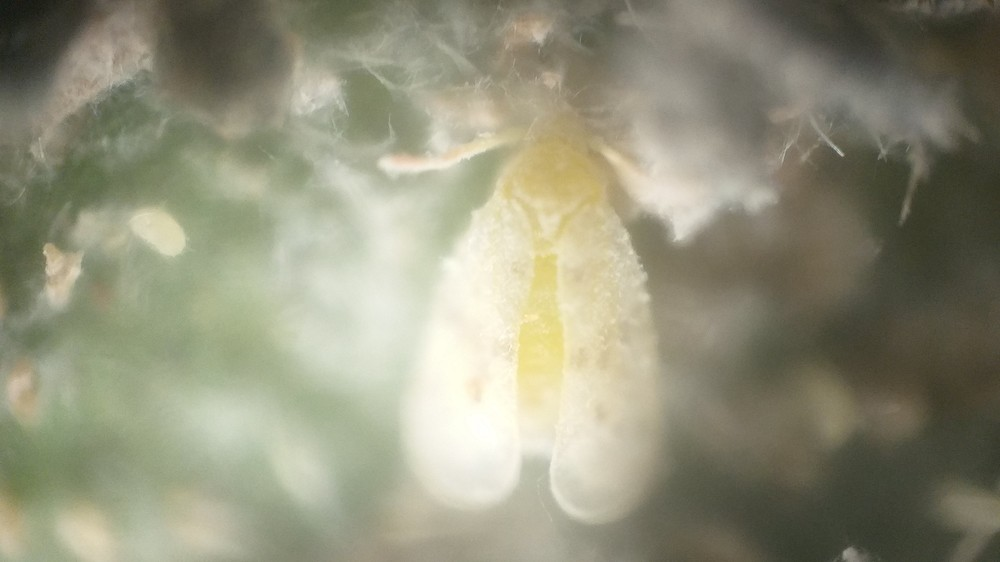Mosca Blanca: (369, 115, 736, 541)
